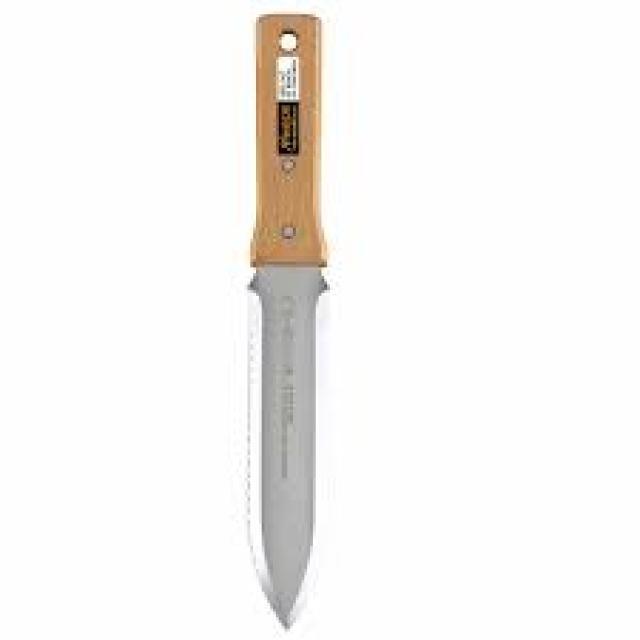knife: (236, 7, 331, 635)
